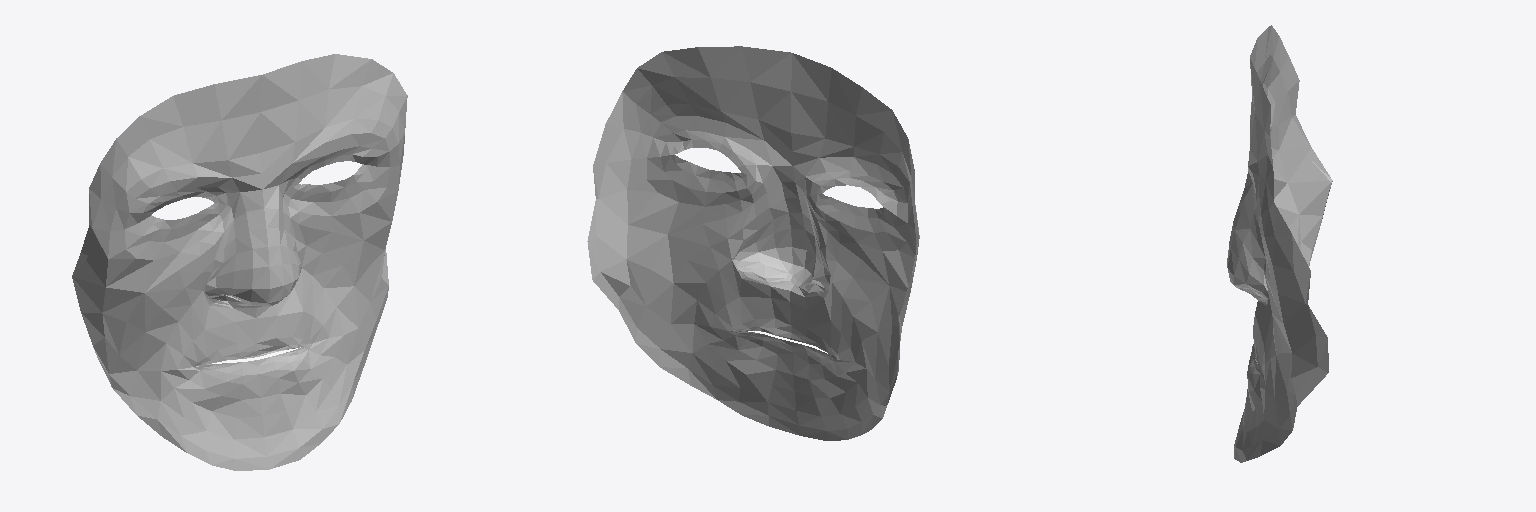
Rendered from tuffie.obj.
3 views of the same model, side by side, from view 1: azimuth 30°, elevation 25°; view 2: azimuth 150°, elevation 25°; view 3: azimuth 270°, elevation 25° (orthographic).
Parts seen in each view (by area): view 1: MyMesh; view 2: MyMesh; view 3: MyMesh.
Part boxes in pixels (x1,y1,x2,y2): MyMesh: (72, 54, 407, 470); MyMesh: (587, 46, 919, 440); MyMesh: (1227, 25, 1332, 462).
Bounding box in the file's own units: 0.5411 × 0.6305 × 0.155.